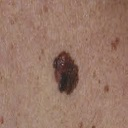Melanoma: (52, 50, 83, 96)
